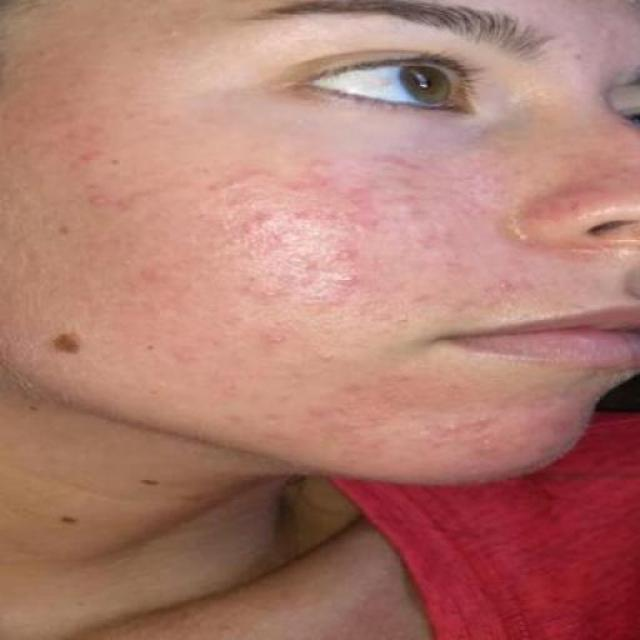Acne: (36, 136, 522, 328)
